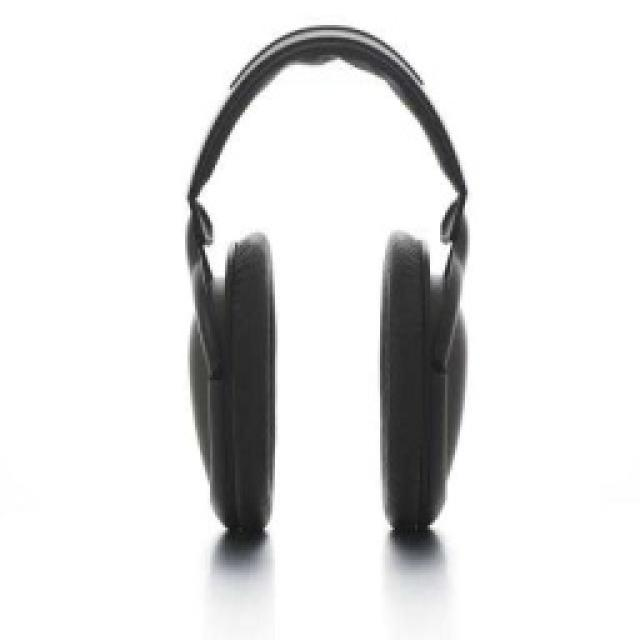headphones: (182, 23, 470, 535)
